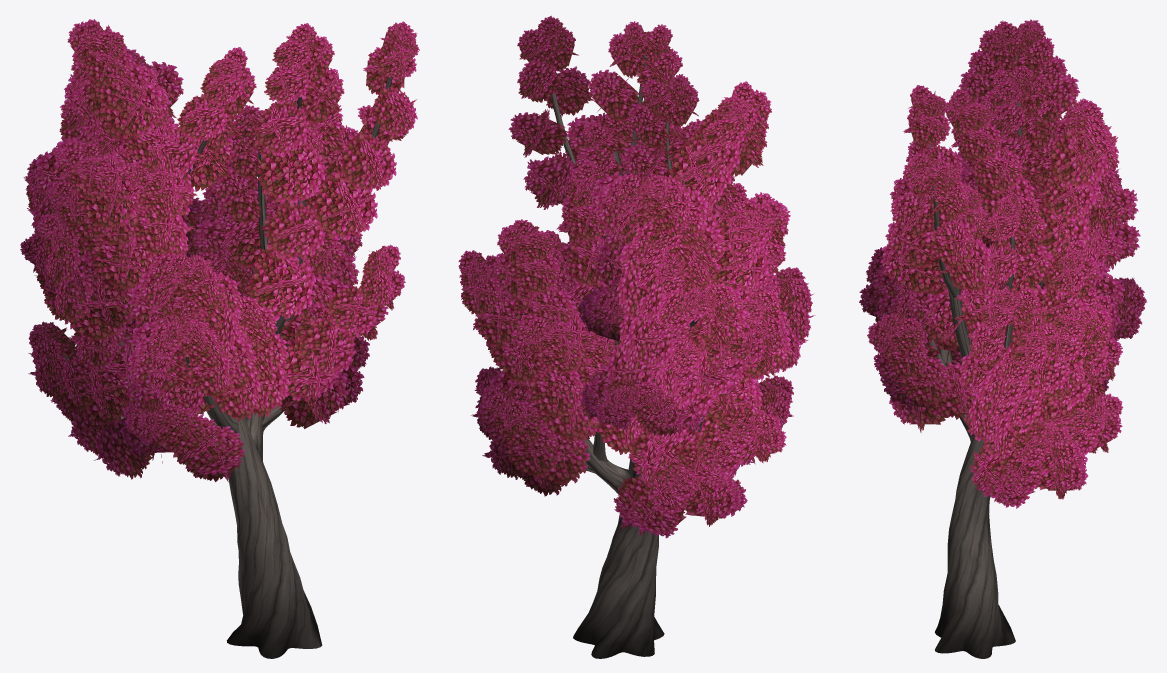
The model's file is TwistedTree_2.gltf.
The picture shows the model from 3 angles, left to right: view 1: azimuth 30°, elevation 25°; view 2: azimuth 150°, elevation 25°; view 3: azimuth 270°, elevation 25°; orthographic projection. The views are drawn at different scales.
Parts seen in each view (by area): view 1: TwistedTree_2; view 2: TwistedTree_2; view 3: TwistedTree_2.
Part boxes in pixels (x1=…): TwistedTree_2: x1=20, y1=19, x2=419, y2=658; TwistedTree_2: x1=458, y1=15, x2=815, y2=658; TwistedTree_2: x1=859, y1=19, x2=1146, y2=658.
Size of the model in its own units: 10.56 by 18.95 by 9.2.
Materials: 2 (2 with a texture image).
